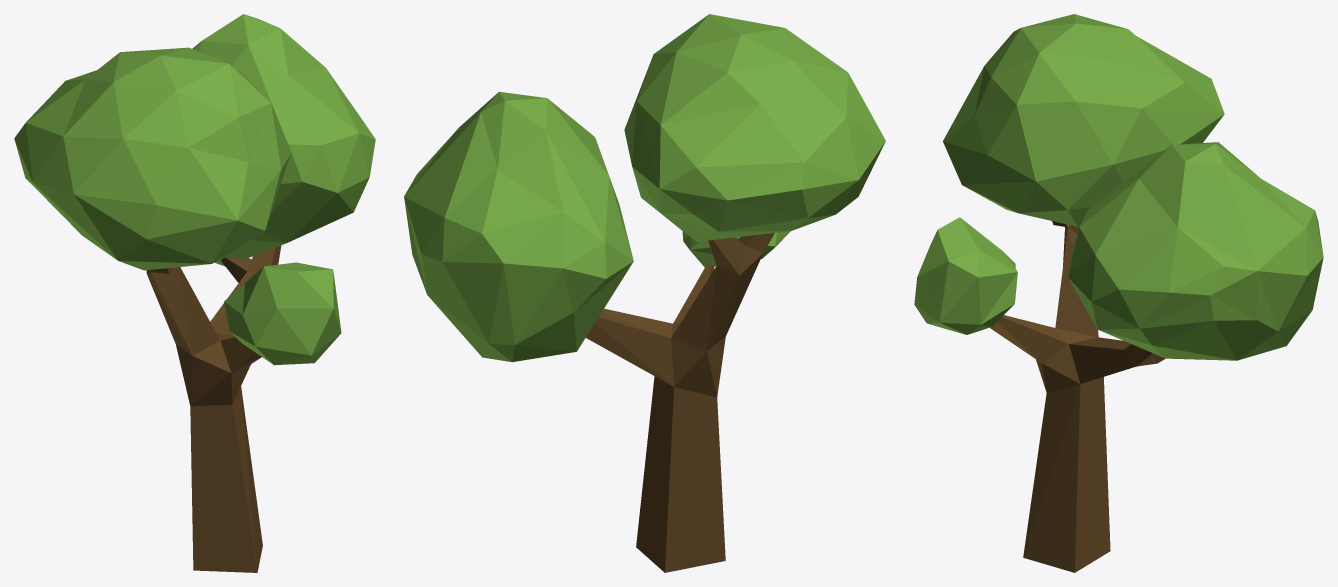
3 views of the same model, side by side, from view 1: azimuth 30°, elevation 25°; view 2: azimuth 150°, elevation 25°; view 3: azimuth 270°, elevation 25° (orthographic). The views are drawn at different scales.
Visible parts, largest first — view 1: Tree1_3; view 2: Tree1_3; view 3: Tree1_3.
Part boxes in pixels (x1,y1,x2,y2): Tree1_3: [14, 14, 375, 572]; Tree1_3: [404, 14, 885, 572]; Tree1_3: [914, 14, 1323, 572].
Bounding box in the file's own units: 379 × 508 × 376.
